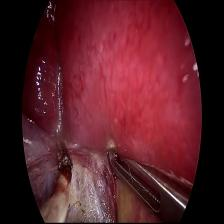Grasper: (107, 140, 191, 224)
Hook: (36, 140, 78, 224)
